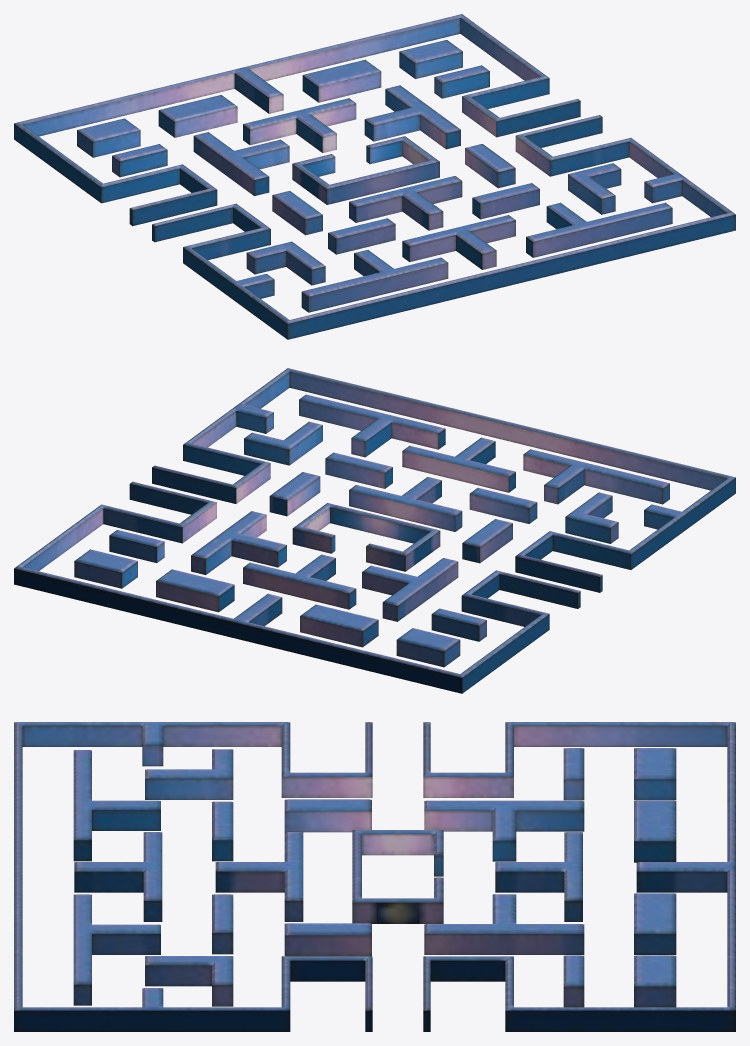
File: map0.obj
3 views of the same model, one above another, from view 1: azimuth 30°, elevation 25°; view 2: azimuth 150°, elevation 25°; view 3: azimuth 270°, elevation 25° (orthographic). The views are drawn at different scales.
Parts seen in each view (by area): view 1: Rectangle012; view 2: Rectangle012; view 3: Rectangle012.
Boxes of the visible parts, <box> form: Rectangle012: <box>14,14,735,339</box>; Rectangle012: <box>14,368,735,693</box>; Rectangle012: <box>14,722,735,1031</box>.
Size of the model in its own units: 650 by 23.81 by 688.
Materials: 1 (1 with a texture image).
